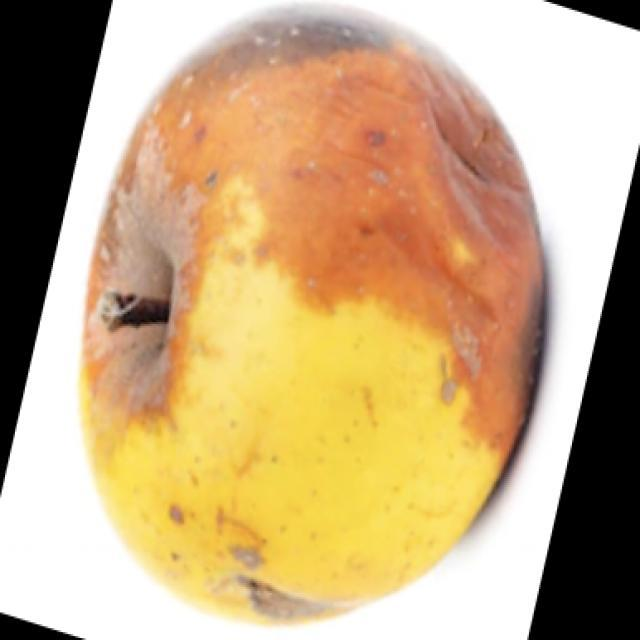Rotten: (60, 33, 525, 585)
